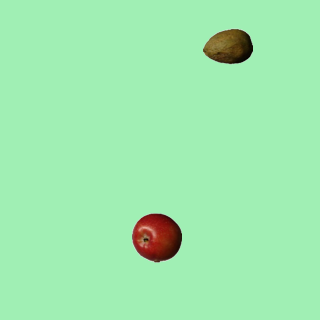Apple Braeburn: (131, 212, 181, 262)
Papaya: (202, 21, 252, 71)
